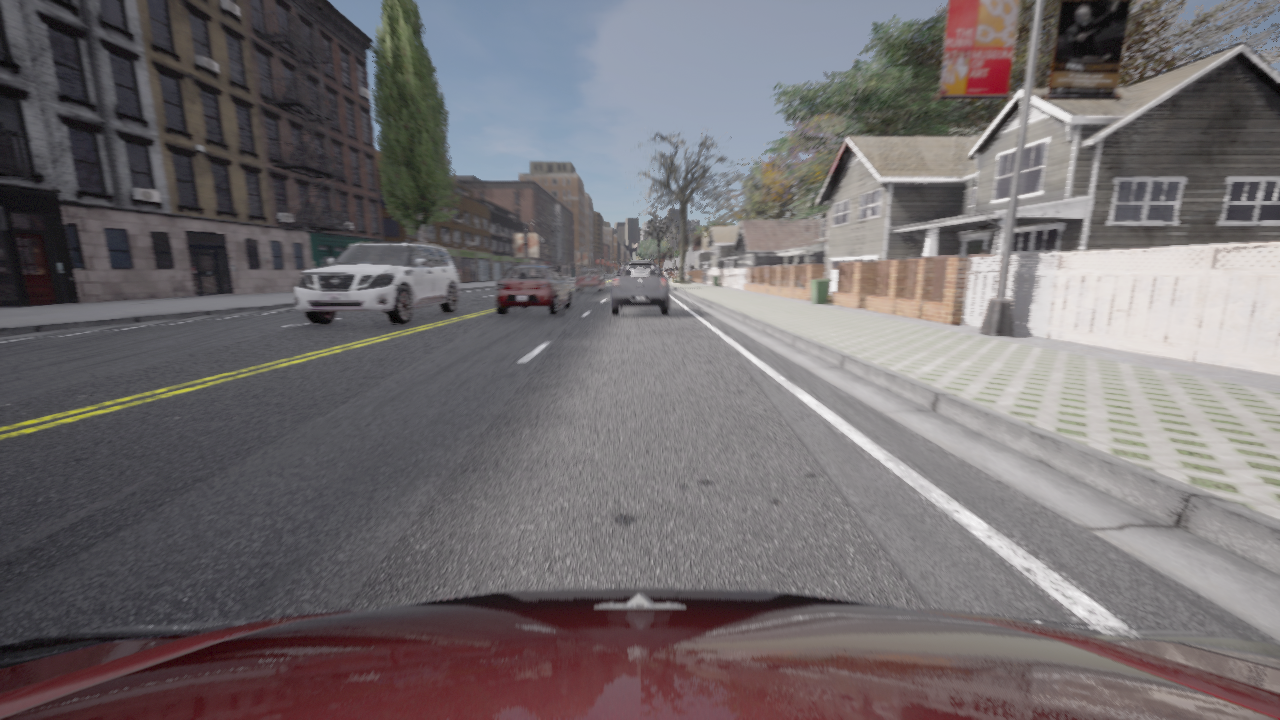cyclist: (0, 588, 1279, 719), (294, 242, 459, 324), (495, 265, 572, 315), (611, 263, 669, 315), (575, 268, 604, 292), (629, 261, 650, 262)
